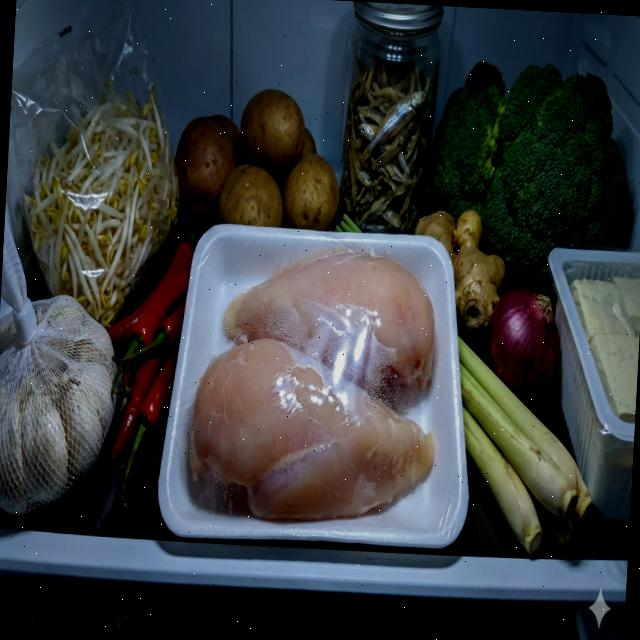anchovies: (339, 59, 432, 237)
bean_sprouts: (14, 75, 188, 334)
brocolli: (423, 54, 638, 303)
chicken: (185, 239, 445, 529)
chili: (96, 227, 198, 515)
ginger: (410, 204, 510, 335)
lemongrass: (446, 337, 600, 560)
onion: (0, 292, 122, 519), (486, 287, 566, 403)
potato: (173, 84, 346, 234)
tofu: (562, 277, 640, 425)
